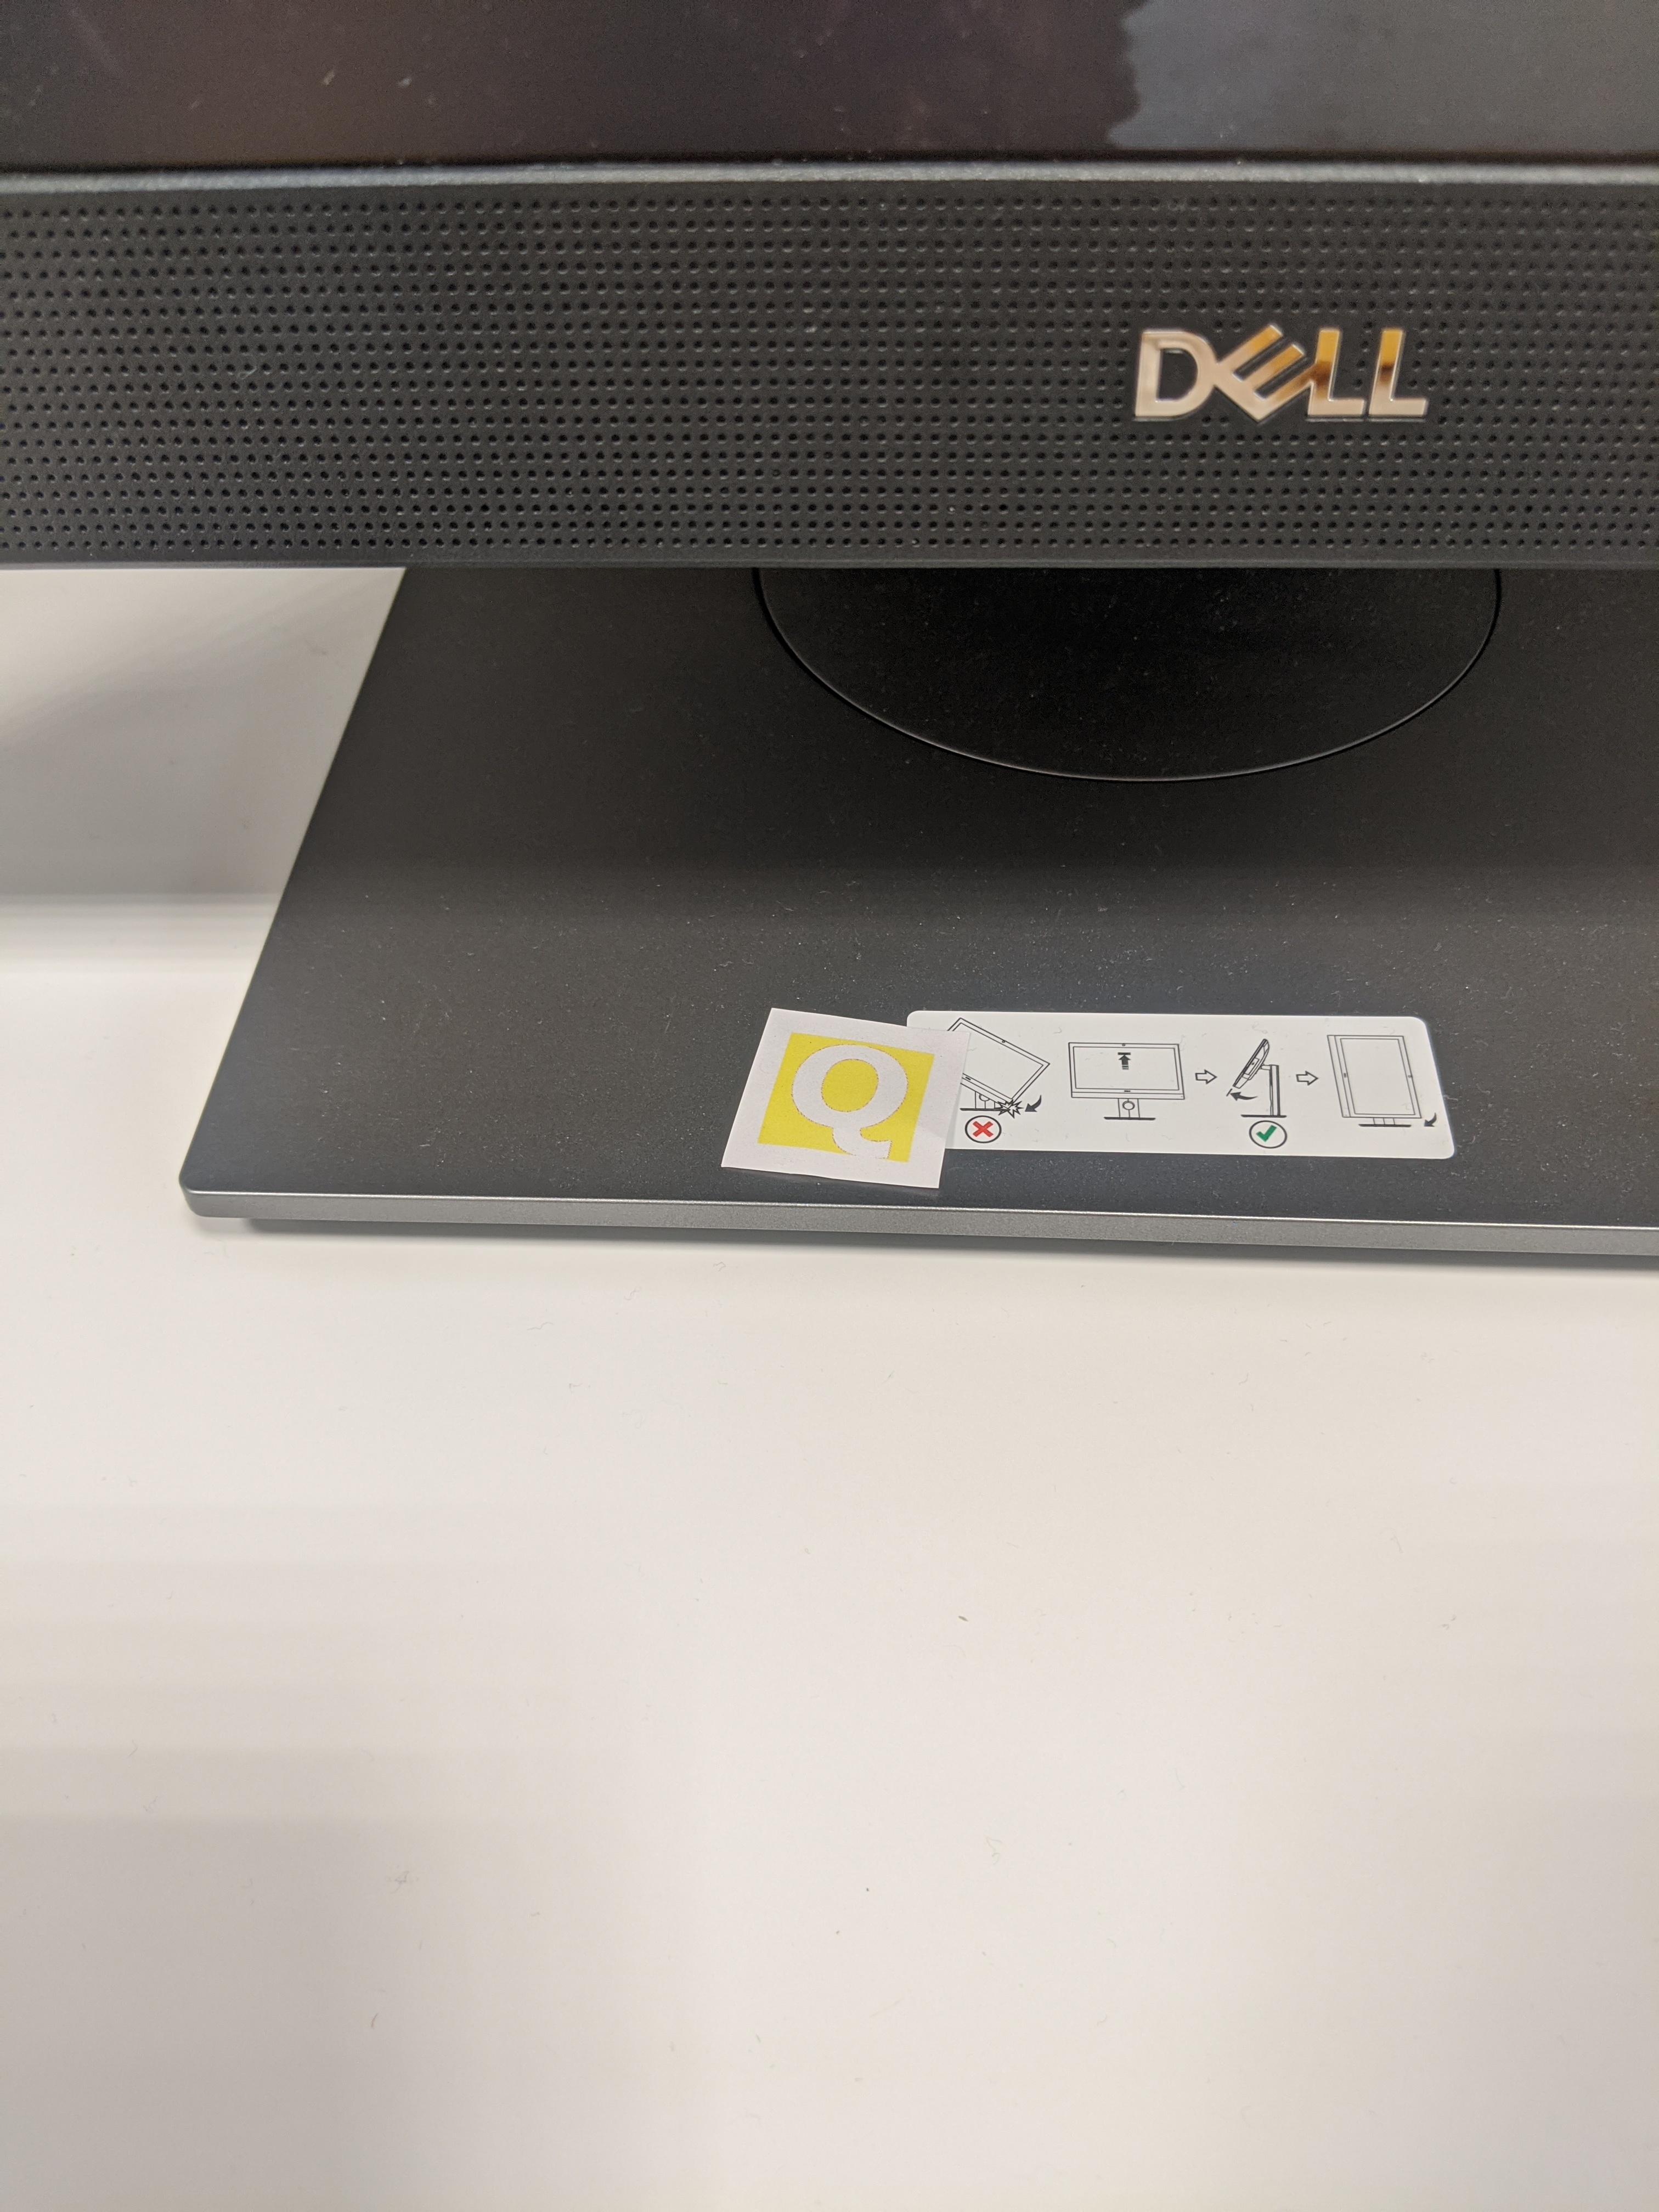yellow marker: (721, 1000, 978, 1209)
